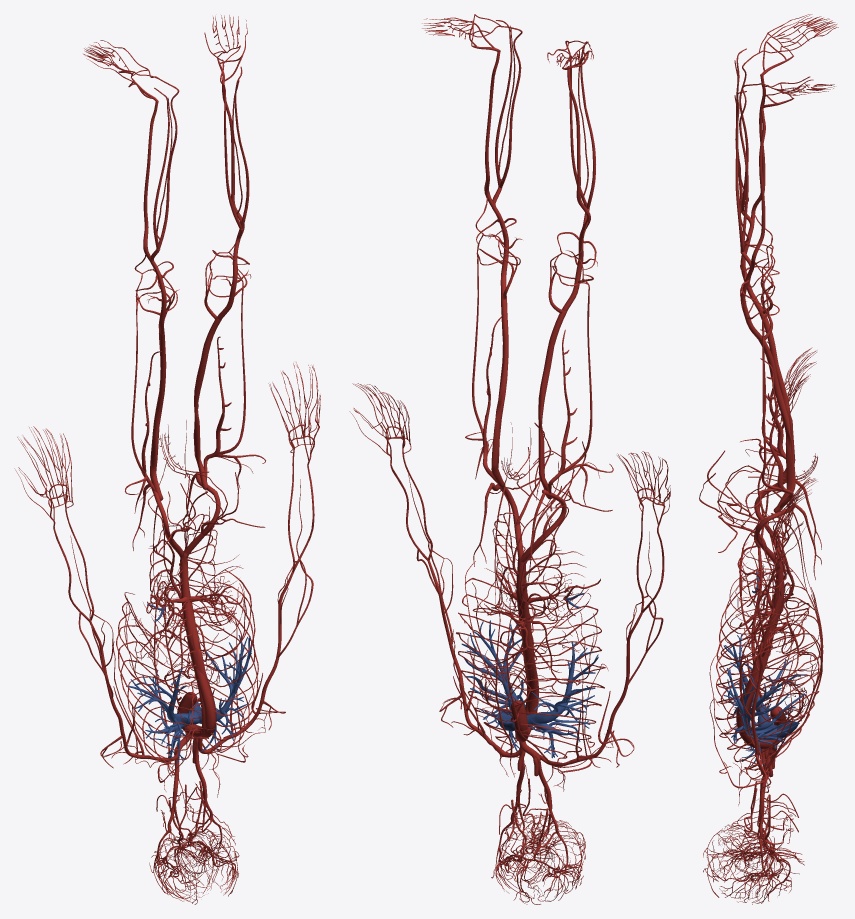
Rendered from arterial.glb.
The picture shows the model from 3 angles, left to right: view 1: azimuth 30°, elevation 25°; view 2: azimuth 150°, elevation 25°; view 3: azimuth 270°, elevation 25°; orthographic projection. The views are drawn at different scales.
Visible parts, largest first — view 1: FJ1961, FJ1975, FJ3427, FJ2074, FJ2143, FJ2130; view 2: FJ1961, FJ2074, FJ2143, FJ1975, FJ3427, FJ2130, FJ2065; view 3: FJ1975, FJ1961, FJ2074, FJ2143, FJ2065, FJ3427, FJ2094, FJ1932, FJ2093, FJ2087, FJ2063, FJ2086 (+7 smaller).
Boxes of the visible parts, box(x1,y1,x2,y2) form: FJ1961: box(116, 594, 208, 759); FJ1975: box(169, 570, 258, 750); FJ3427: box(180, 557, 216, 729); FJ2074: box(193, 317, 221, 489); FJ2143: box(150, 332, 166, 500); FJ2130: box(143, 102, 158, 261); FJ1961: box(511, 593, 605, 739); FJ2074: box(491, 294, 508, 487); FJ2143: box(538, 309, 567, 499); FJ1975: box(456, 568, 538, 730); FJ3427: box(518, 554, 538, 714); FJ2130: box(567, 68, 590, 230); FJ2065: box(484, 52, 500, 207); FJ1975: box(716, 617, 821, 762); FJ1961: box(716, 568, 821, 742); FJ2074: box(759, 338, 795, 512); FJ2143: box(758, 310, 795, 487); FJ2065: box(751, 108, 765, 269); FJ3427: box(736, 566, 782, 734); FJ2094: box(760, 358, 793, 508); FJ1932: box(757, 563, 784, 657); FJ2093: box(735, 91, 746, 251); FJ2087: box(739, 84, 758, 249); FJ2063: box(761, 319, 782, 490); FJ2086: box(740, 251, 762, 341).
Bounding box in the file's own units: 649 × 1704 × 258.
